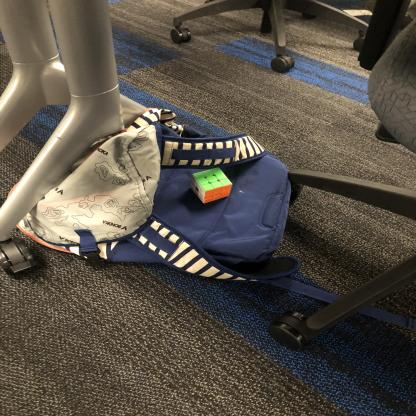SolvedCube: (186, 170, 233, 204)
